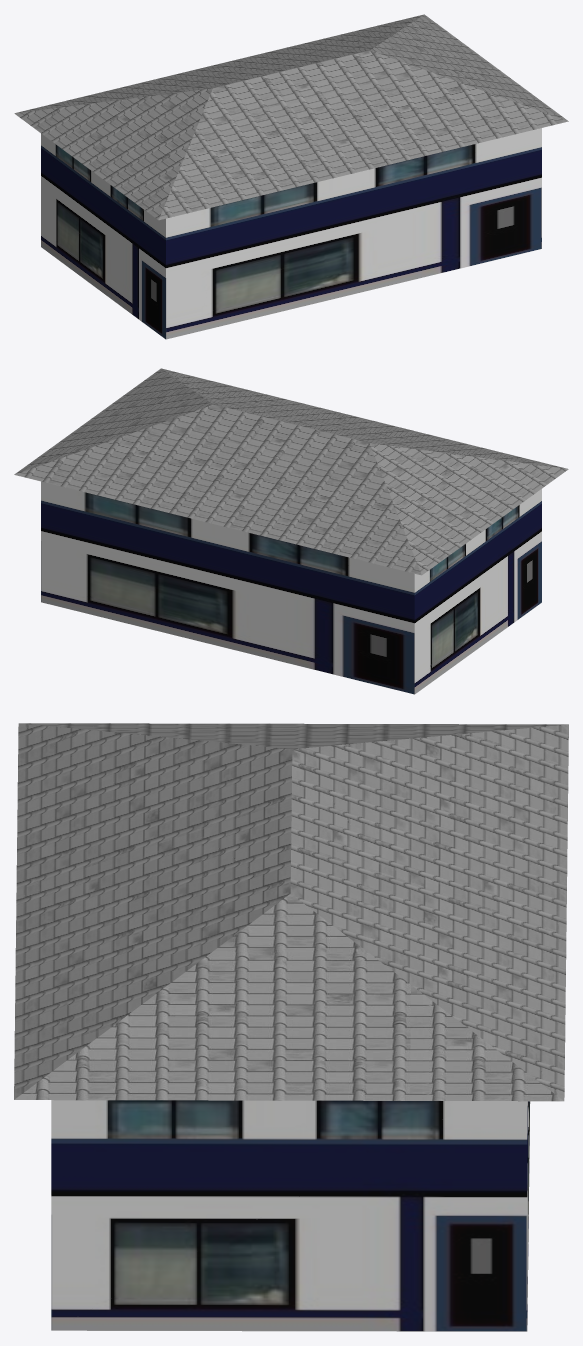
3 renders of one model, top to bottom at view 1: azimuth 30°, elevation 25°; view 2: azimuth 150°, elevation 25°; view 3: azimuth 270°, elevation 25°, orthographic. The views are drawn at different scales.
Parts seen in each view (by area): view 1: CityEngineMaterial_2_m, CityEngineMaterial_4_m; view 2: CityEngineMaterial_2_m, CityEngineMaterial_4_m; view 3: CityEngineMaterial_4_m, CityEngineMaterial_2_m.
Part boxes in pixels (x1,y1,x2,y2): CityEngineMaterial_2_m: (41,128,541,339); CityEngineMaterial_4_m: (14,14,568,220); CityEngineMaterial_2_m: (41,481,541,694); CityEngineMaterial_4_m: (14,368,568,575); CityEngineMaterial_4_m: (14,723,568,1101); CityEngineMaterial_2_m: (51,1100,530,1331).
Bounding box in the file's own units: 22.58 × 9.39 × 14.01.
